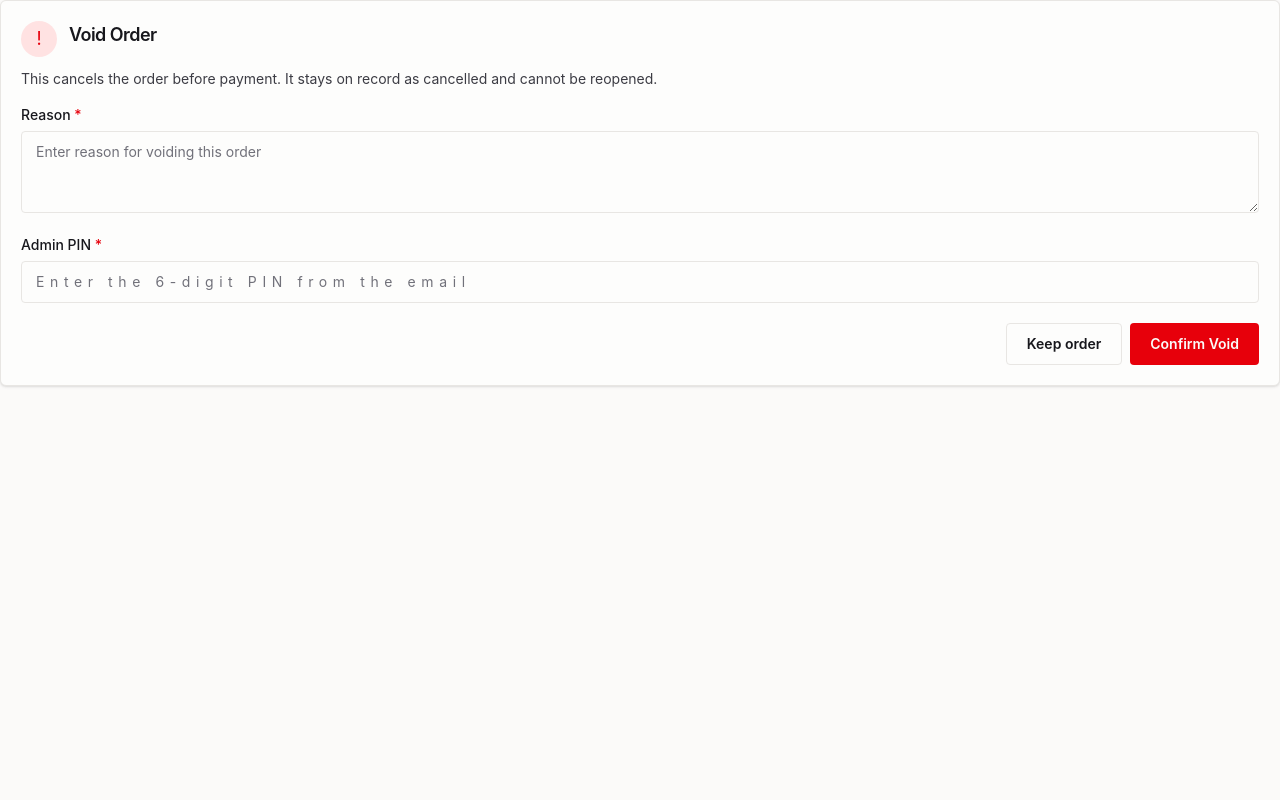
Test: VoidDialog › Requirement 21.2: PIN required after free void window › should show error when PIN is less than 6 digits
Type "Some reason" into the text box with test id "void-reason-input" at (640, 172), box [21,131,1259,213]
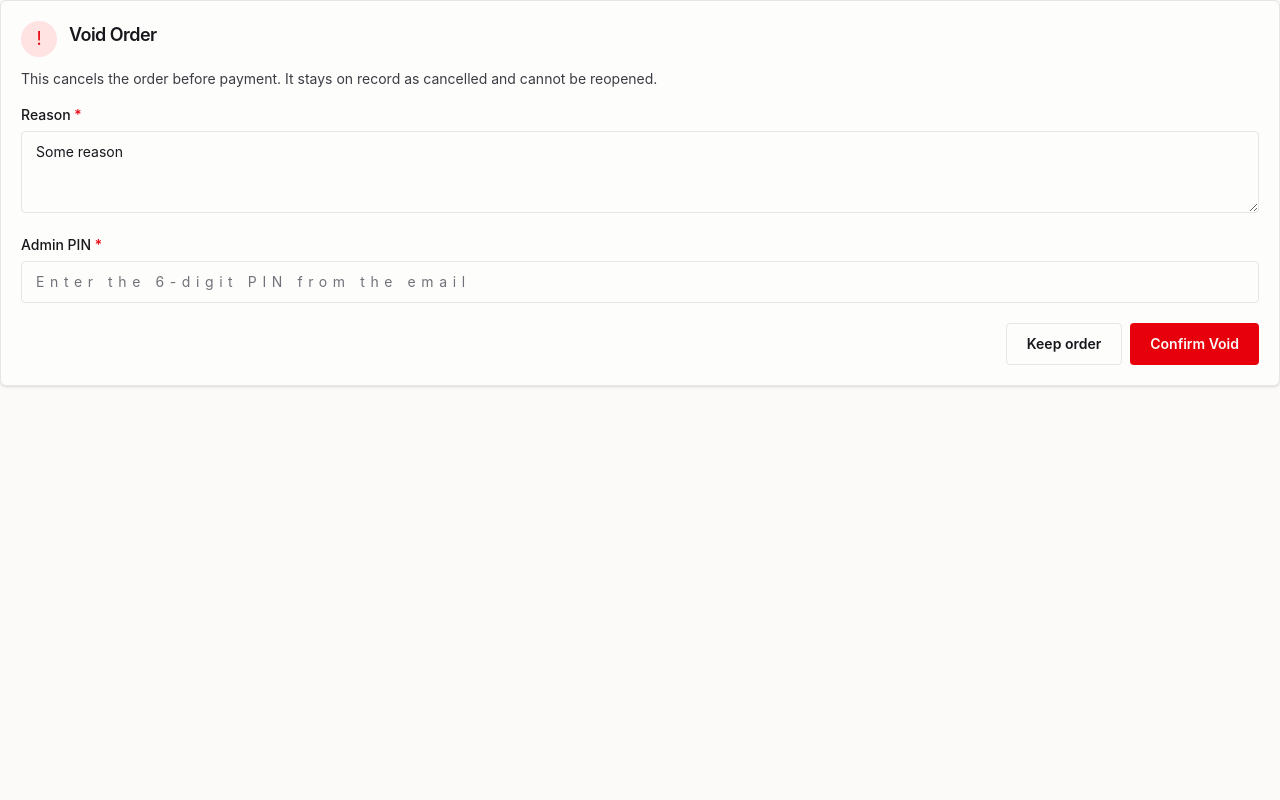
Type "12345" into the password field with test id "void-pin-input" at (640, 282), box [21,261,1259,303]
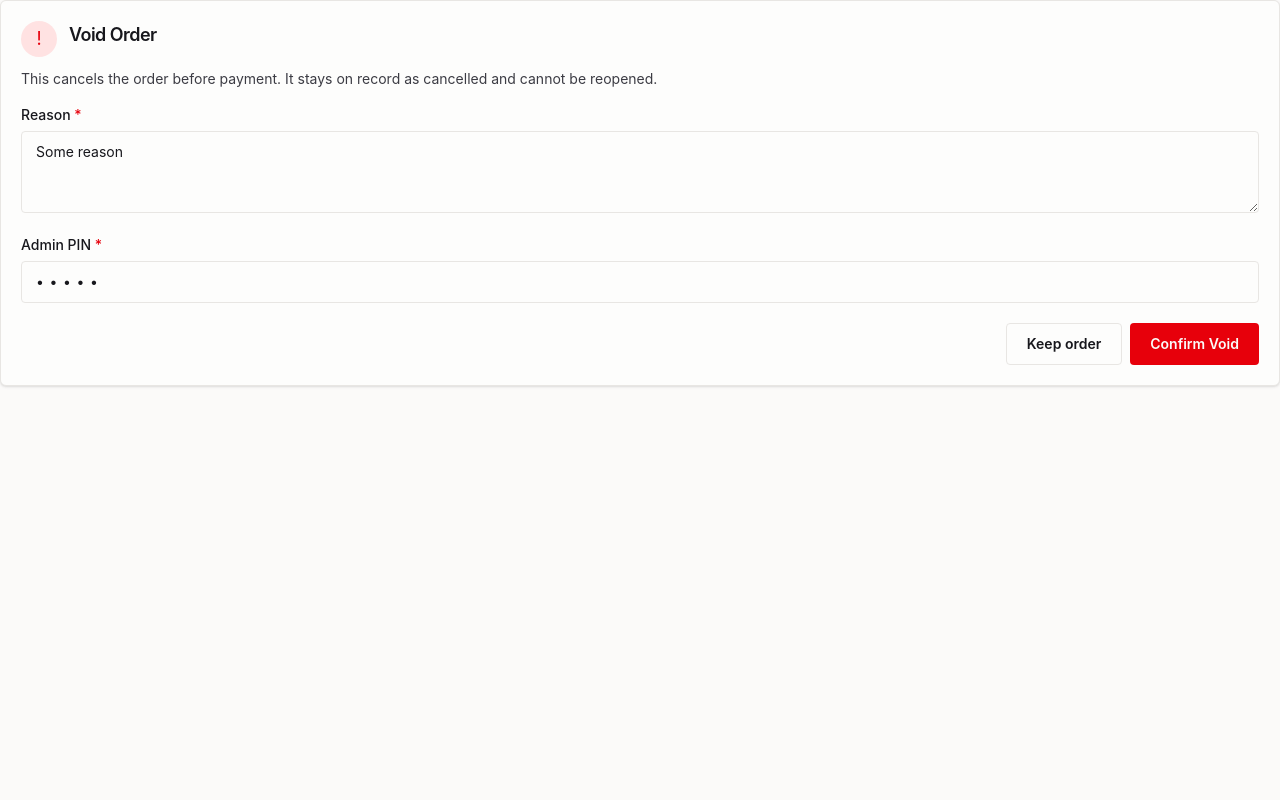
Click the button with test id "void-confirm-btn" at (1195, 344), box [1130,323,1259,365]
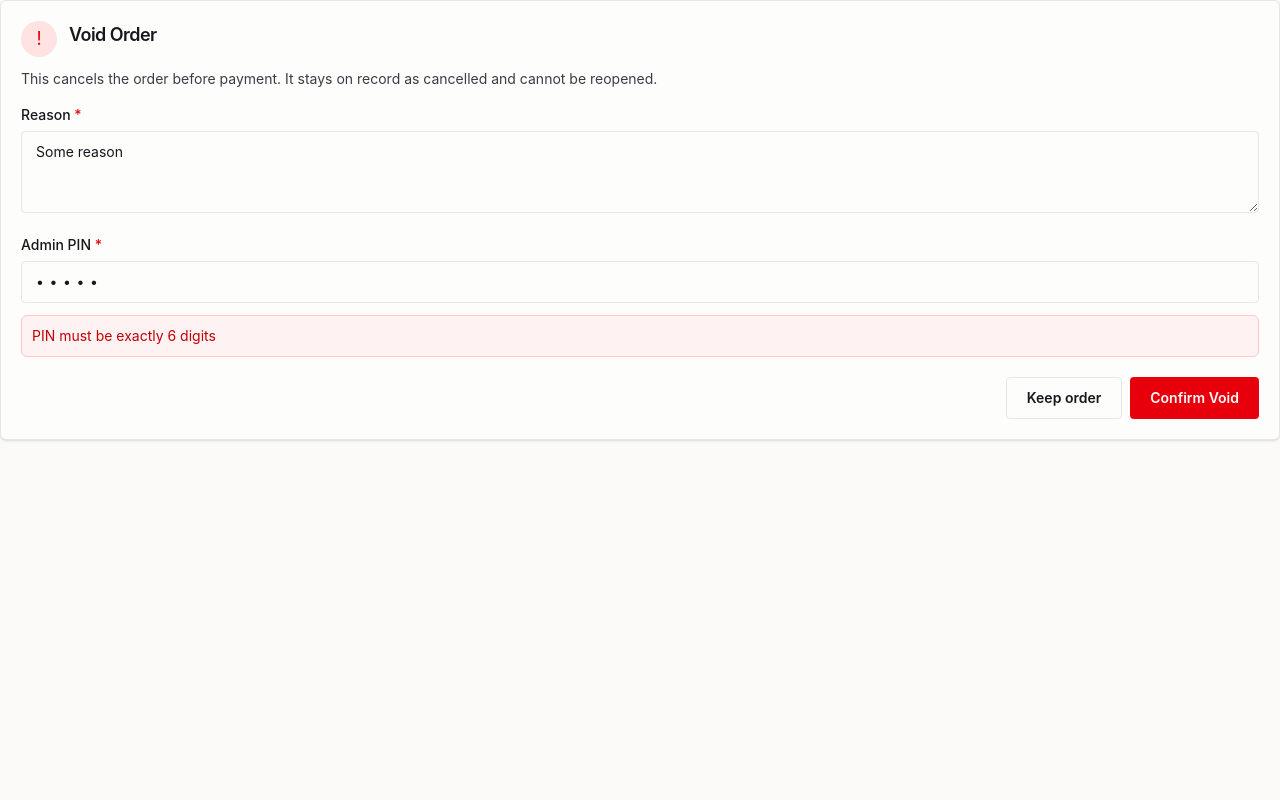
Check: the message with test id "void-error" reads "PIN must be exactly 6 digits", box [32,327,216,344]
